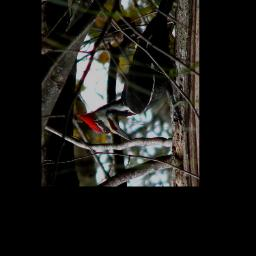Woodpecker: (77, 0, 186, 142)
